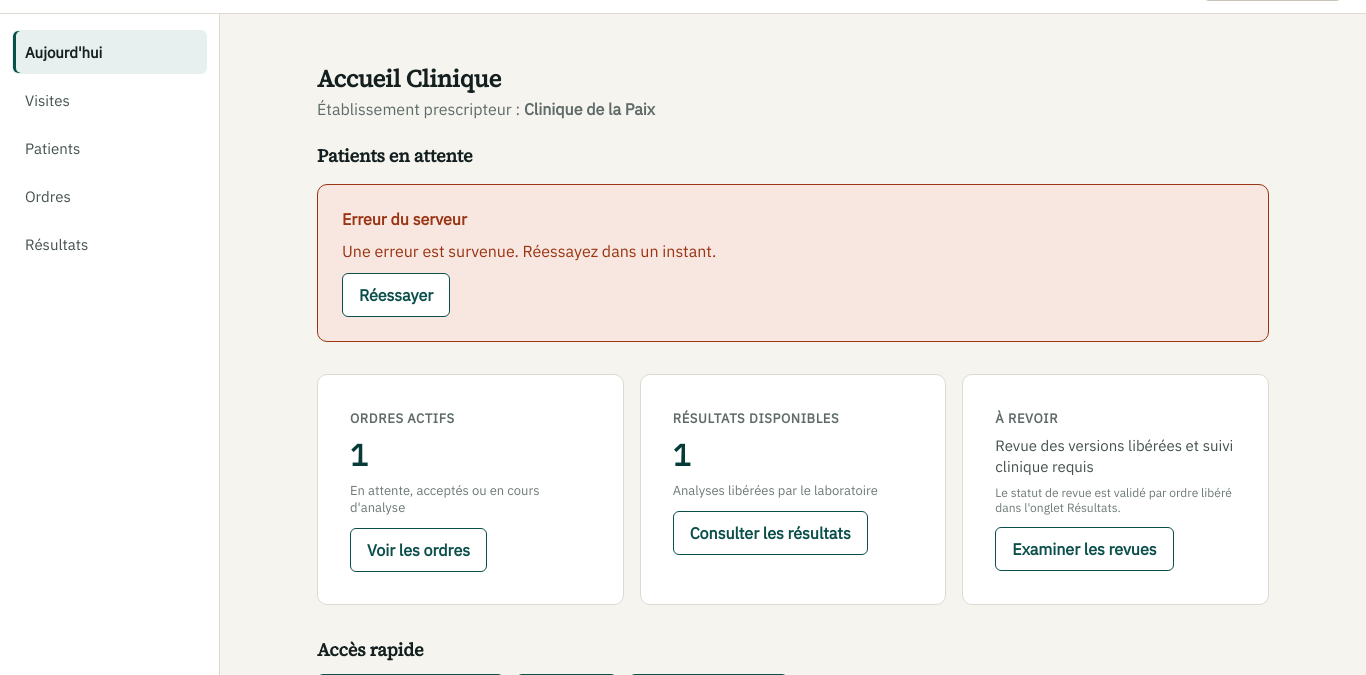
Test case: the staff application at a provider organization › navigates to "Résultats" and allows inspecting released observations for a completed order
Click the 1st button "Résultats".
click(110, 244)  # box [12,222,207,266]
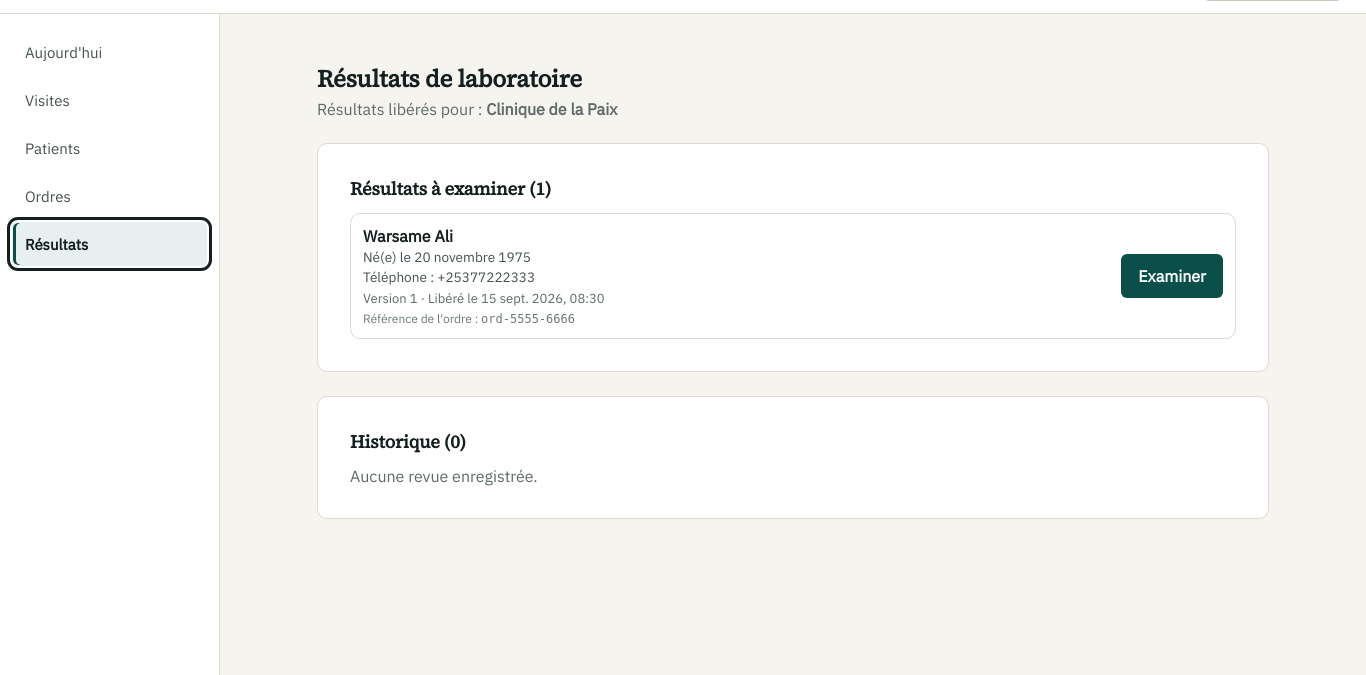
Expected: the heading "Résultats de laboratoire" is shown, [317,62,582,95]
# Open the pending review queue entry for the completed order
Click the button "Examiner".
click(1172, 276)  # box [1121,254,1223,298]
(page scrolled)
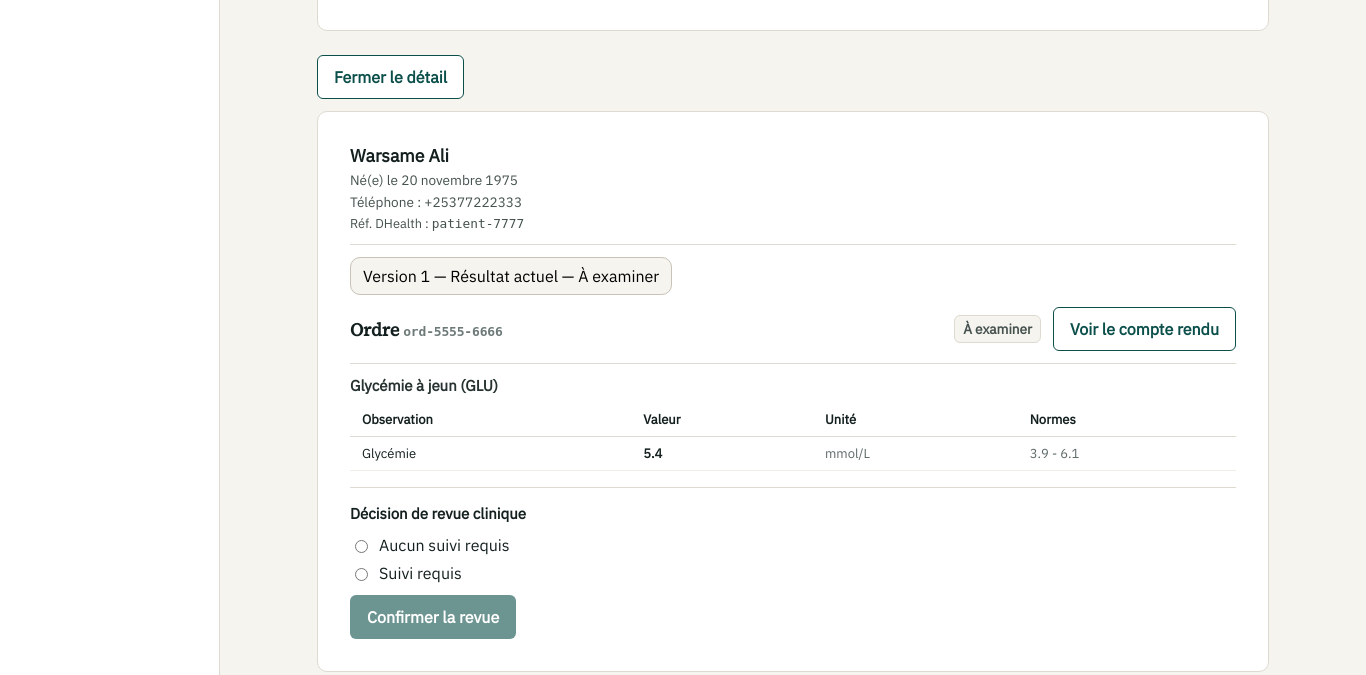
Expected: the heading "Glycémie à jeun (GLU)" is shown, [350,376,498,395]
Expected: the text "5.4" is shown, [631,436,813,470]
Expected: the text "mmol/L" is shown, [813,436,1018,470]
